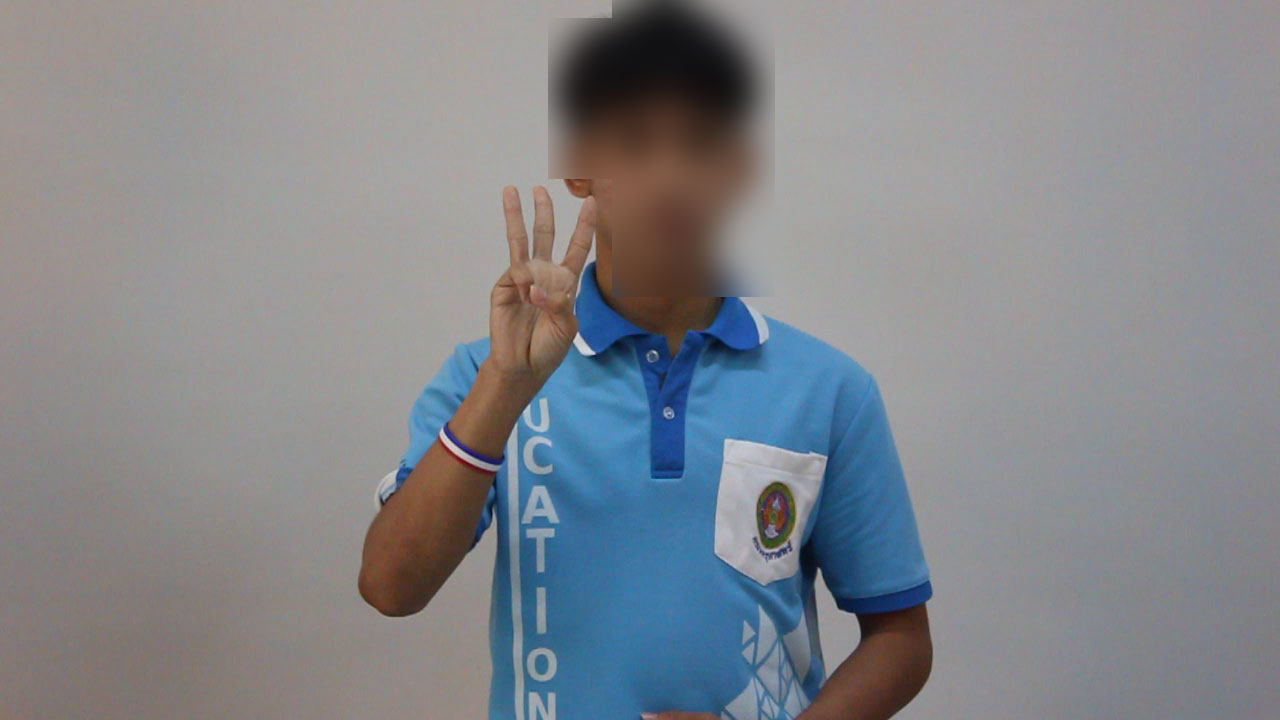wor: (481, 178, 606, 393)
